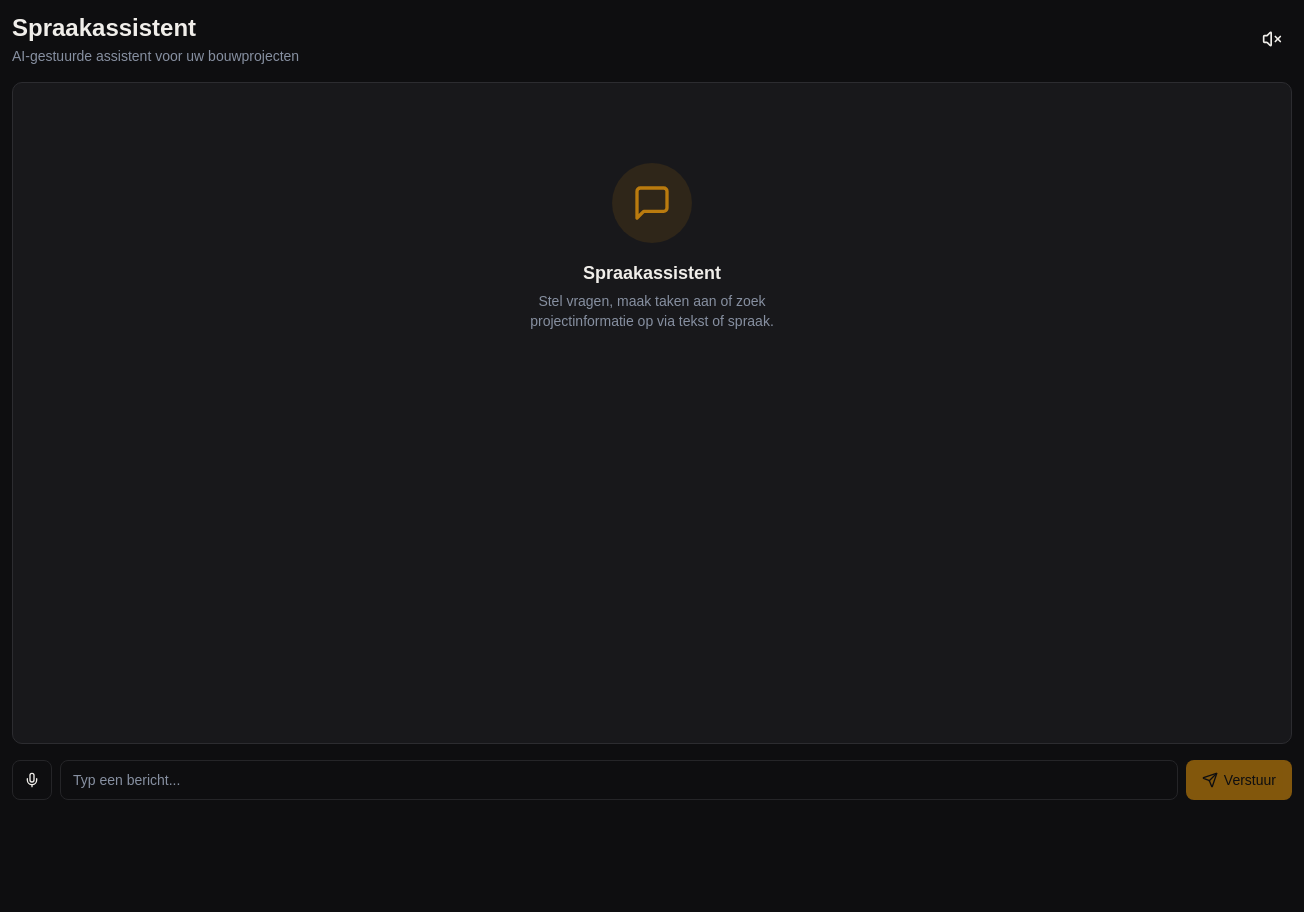
Test: VoicePage › displays AI response bubble on left after submitting text
The width and height of the screenshot is (1304, 912).
Type "Maak een taak aan" into the field with placeholder "Typ een bericht...".
click(619, 780); type("Maak een taak aan")  # box x1=60 y1=760 x2=1178 y2=800
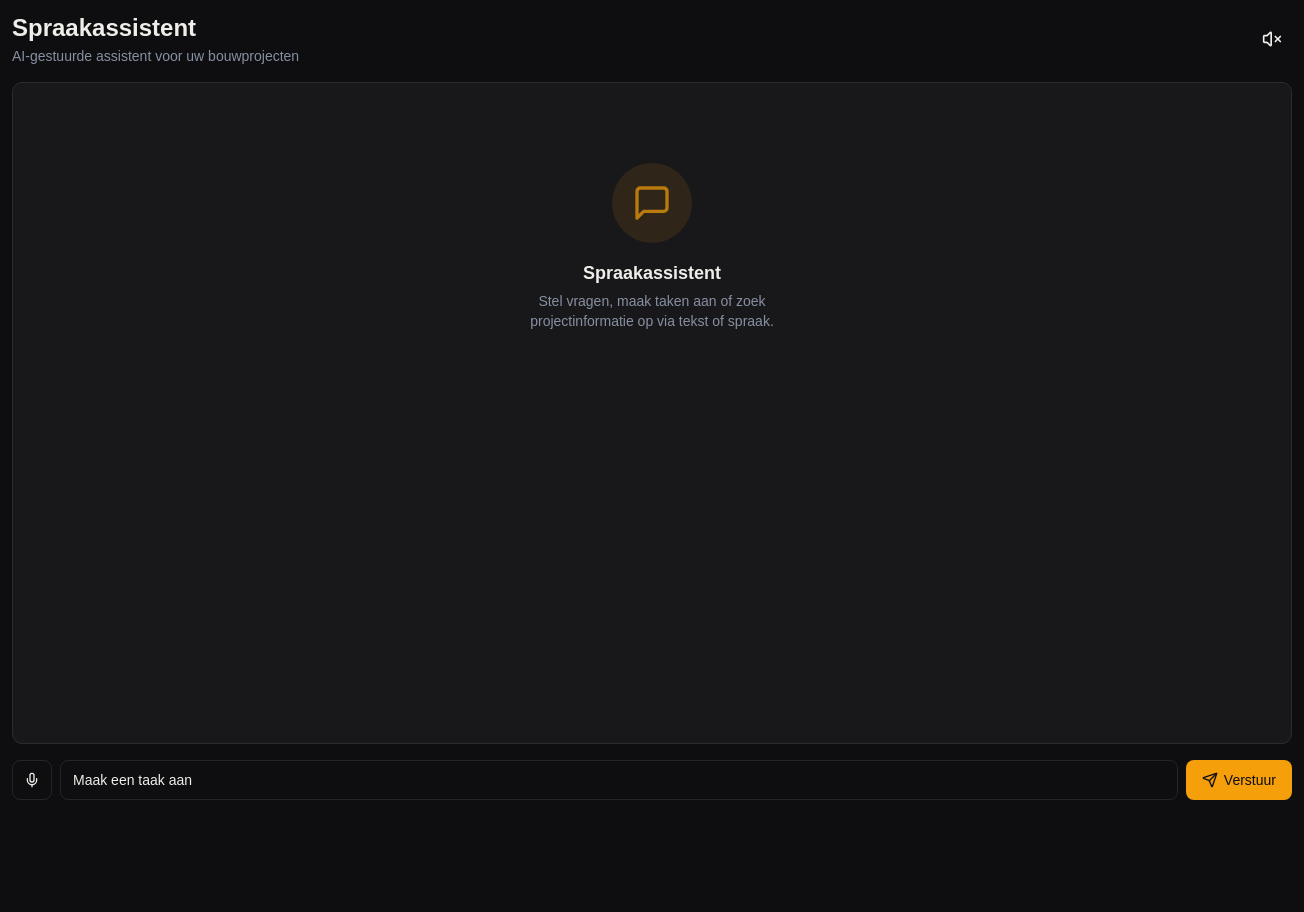
Click the button "Verstuur".
click(1239, 780)  # box x1=1186 y1=760 x2=1292 y2=800
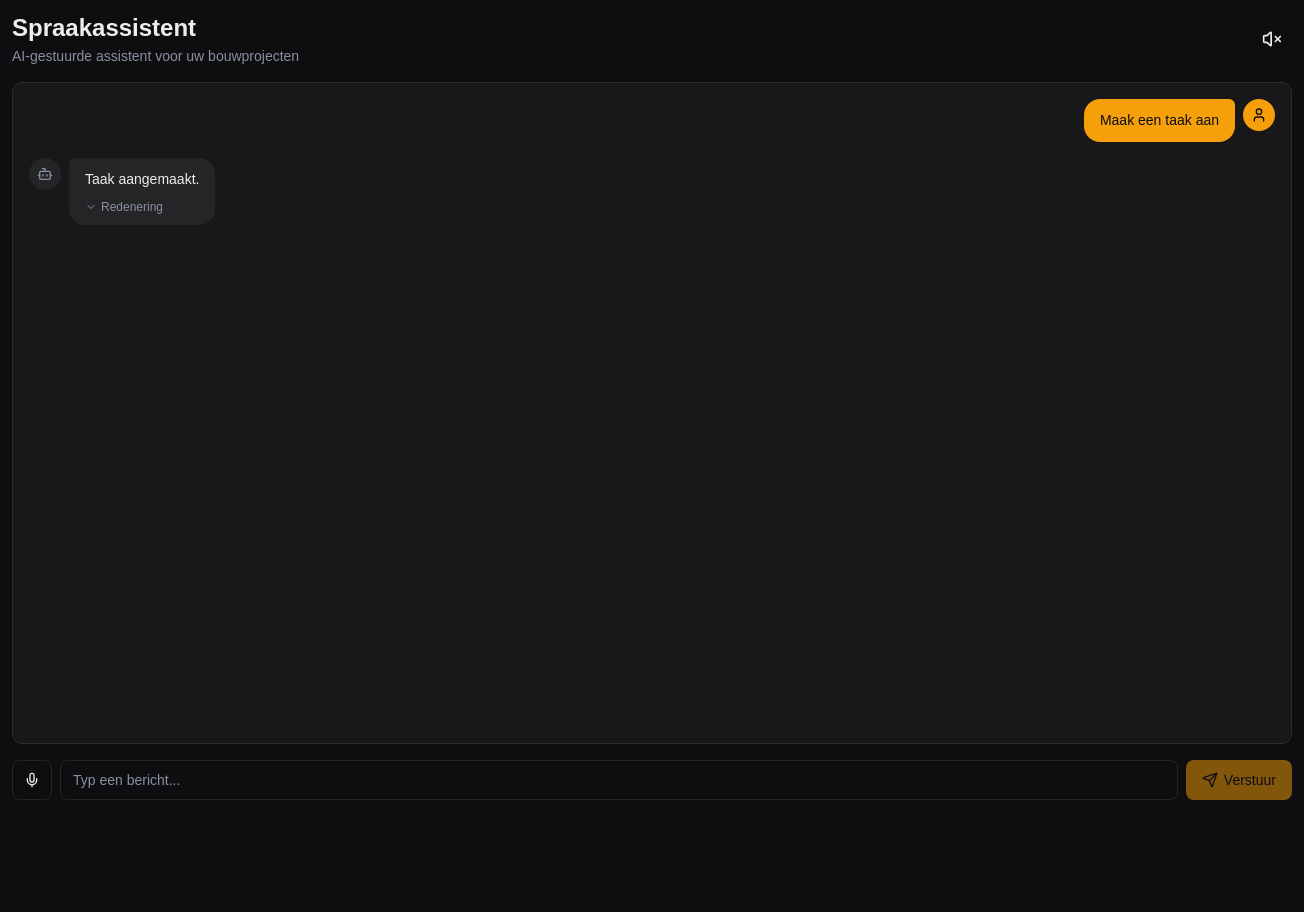
Now the element with test id "message-ai-0" is shown, box x1=69 y1=158 x2=215 y2=225
Now the element with test id "message-ai-0" shows "Taak aangemaakt.", box x1=85 y1=171 x2=199 y2=187
